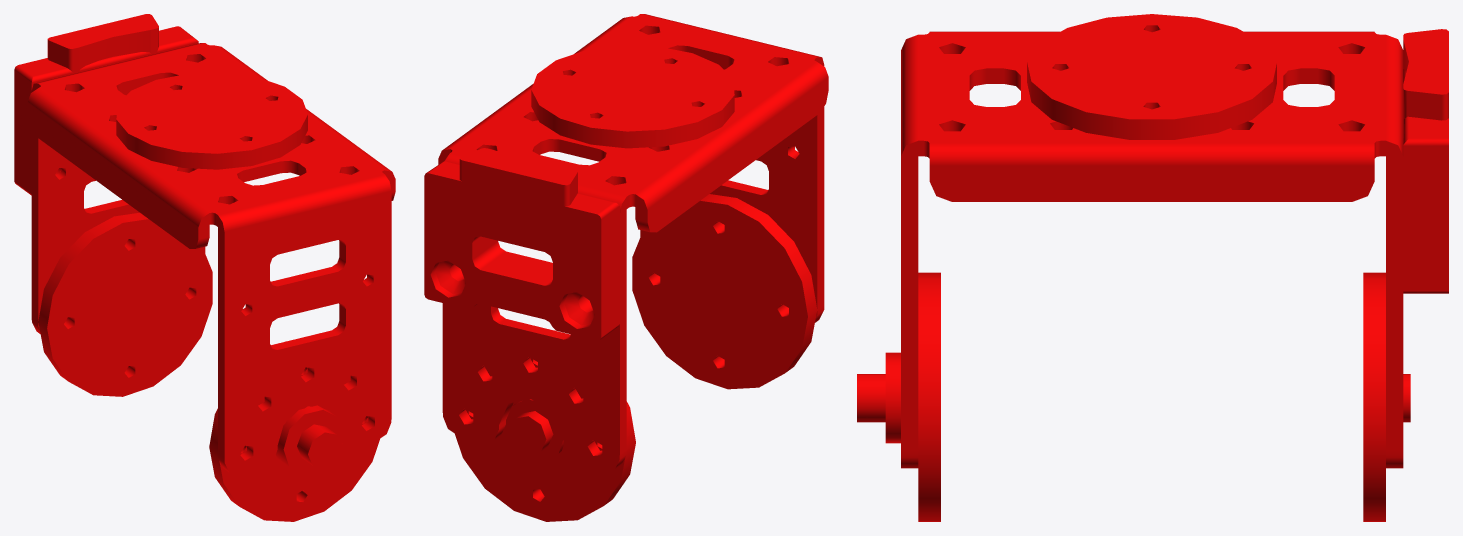
File: Wrist_Pitch.dae
3 renders of one model, left to right at view 1: azimuth 30°, elevation 25°; view 2: azimuth 150°, elevation 25°; view 3: azimuth 270°, elevation 25°, orthographic. The views are drawn at different scales.
Parts seen in each view (by area): view 1: WristPitch; view 2: WristPitch; view 3: WristPitch.
Part boxes in pixels (<box>): WristPitch: <box>14,14,395,521</box>; WristPitch: <box>424,14,828,521</box>; WristPitch: <box>857,14,1448,521</box>.
Bounding box in the file's own units: 0.026 × 0.0435 × 0.0519.
